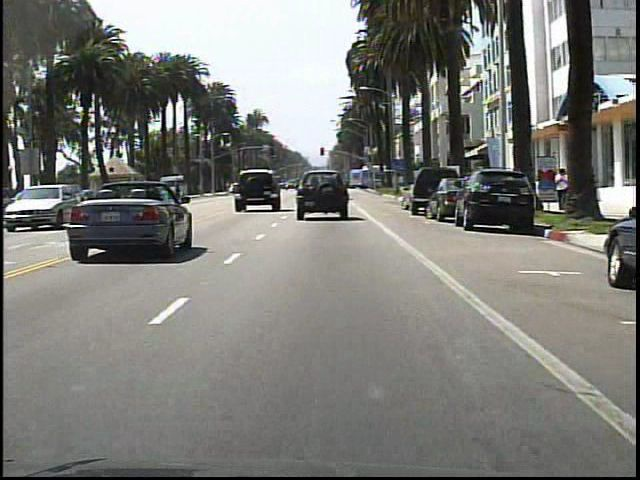person: (552, 168, 568, 216)
